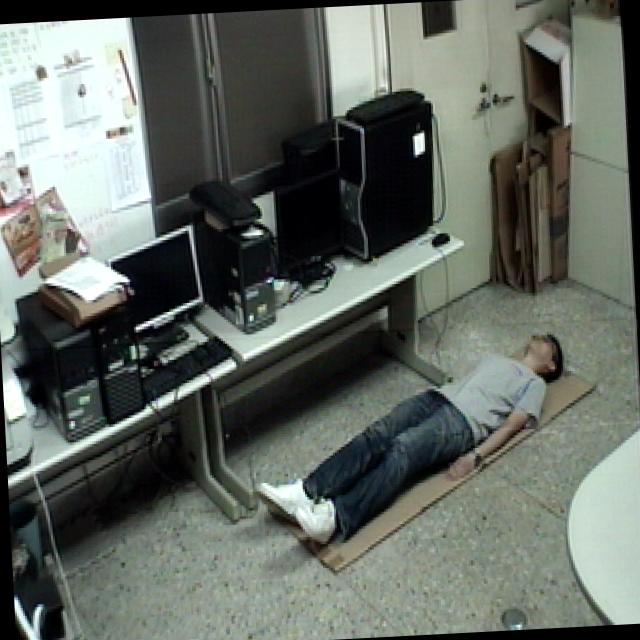lie: (242, 322, 584, 565)
